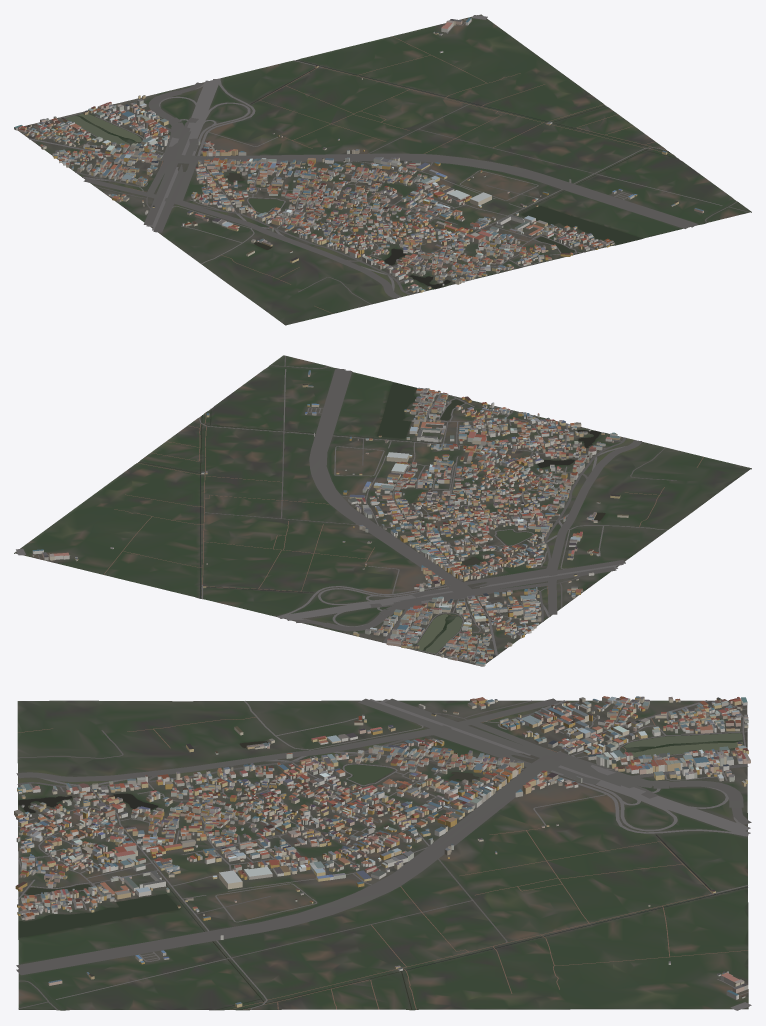
The picture shows the model from 3 angles, top to bottom: view 1: azimuth 30°, elevation 25°; view 2: azimuth 150°, elevation 25°; view 3: azimuth 270°, elevation 25°; orthographic projection. The views are drawn at different scales.
Visible parts, largest first — view 1: ground, buildings, roads, water; view 2: ground, buildings, roads, water; view 3: ground, buildings, roads, water.
Boxes of the visible parts, x1,y1,x2,y2 form: ground: (19, 14, 751, 325); buildings: (14, 17, 703, 292); roads: (23, 15, 749, 313); water: (66, 60, 735, 288); ground: (14, 355, 751, 666); buildings: (32, 370, 628, 666); roads: (16, 355, 703, 664); water: (138, 367, 605, 653); ground: (17, 700, 748, 1010); buildings: (14, 696, 750, 1007); roads: (16, 698, 751, 1010); water: (18, 733, 747, 1009).
Size of the model in its own units: 1417 by 23.65 by 1418.
